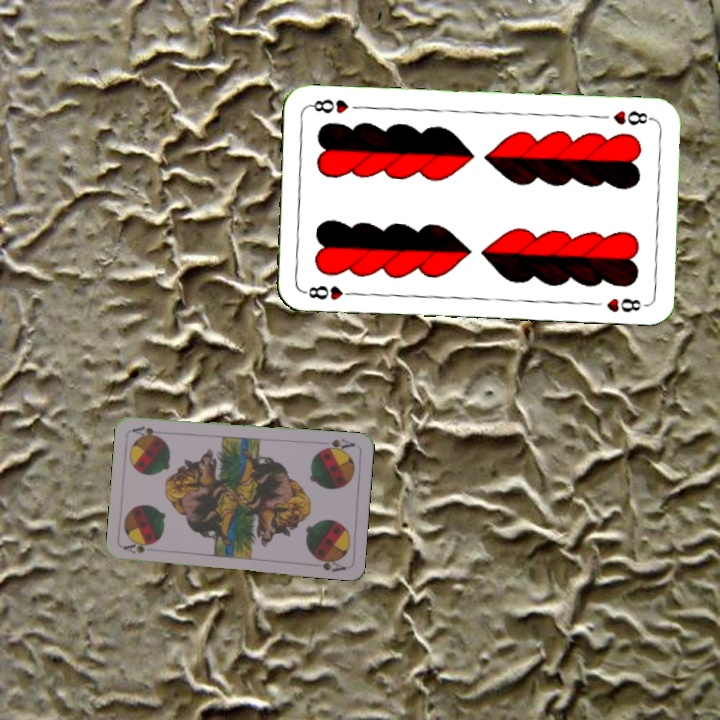H8: (300, 282, 359, 303), (609, 106, 656, 128)
SA: (317, 434, 357, 454), (120, 540, 154, 556)
